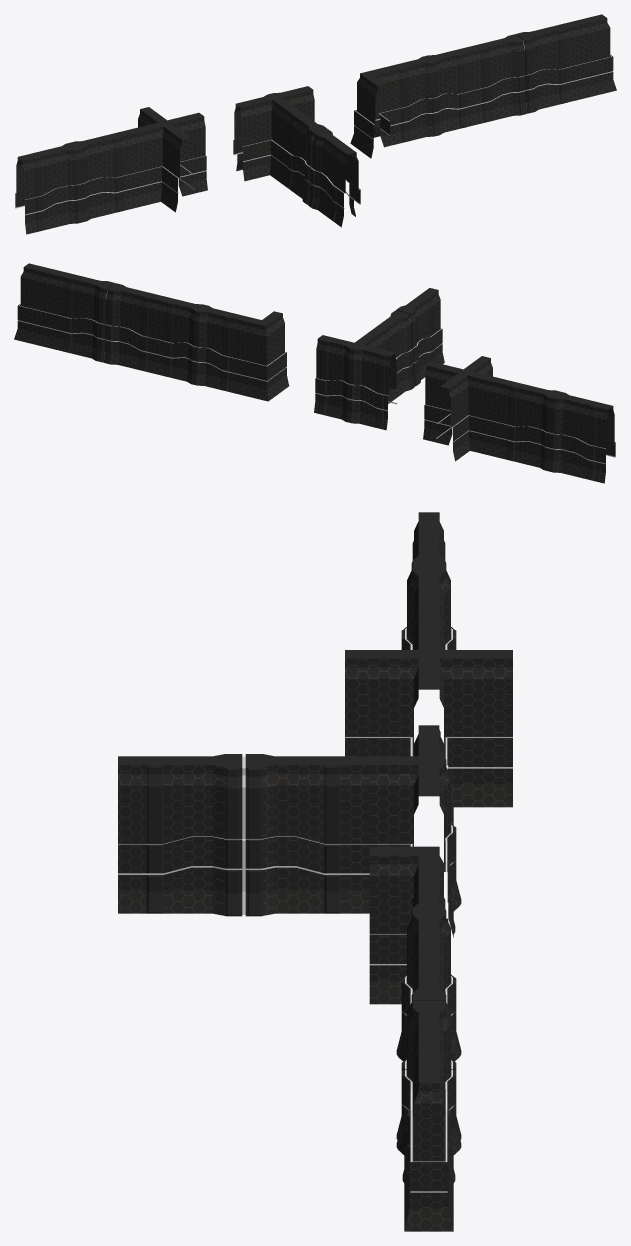
File: WallsPack01.fbx
3 renders of one model, top to bottom at view 1: azimuth 30°, elevation 25°; view 2: azimuth 150°, elevation 25°; view 3: azimuth 270°, elevation 25°, orthographic. The views are drawn at different scales.
Visible parts, largest first — view 1: SingleWallLongHalf, WallLong, XCross, WallLongDoor, WallShort, TCross, CornerWall, EndWall.001; view 2: SingleWallLongHalf, WallLong, TCross, XCross, WallShort, WallLongDoor, CornerWall, EndWall.001; view 3: WallLongDoor, XCross, TCross, CornerWall, WallLong, EndWall.001, SingleWallLongHalf, WallShort.
Boxes of the visible parts, left/top/right/bottom form: SingleWallLongHalf: left=15, top=130, right=135, bottom=234; WallLong: left=463, top=21, right=580, bottom=125; XCross: left=127, top=107, right=207, bottom=212; WallLongDoor: left=278, top=106, right=360, bottom=227; WallShort: left=390, top=48, right=471, bottom=143; TCross: left=233, top=86, right=314, bottom=181; CornerWall: left=350, top=66, right=398, bottom=158; EndWall.001: left=572, top=14, right=616, bottom=99; SingleWallLongHalf: left=495, top=379, right=615, bottom=483; WallLong: left=50, top=270, right=167, bottom=374; TCross: left=314, top=334, right=397, bottom=430; XCross: left=423, top=356, right=503, bottom=461; WallShort: left=159, top=297, right=240, bottom=392; WallLongDoor: left=367, top=288, right=444, bottom=403; CornerWall: left=232, top=311, right=288, bottom=401; EndWall.001: left=14, top=263, right=58, bottom=348; WallLongDoor: left=118, top=754, right=369, bottom=916; XCross: left=345, top=619, right=512, bottom=825; TCross: left=369, top=725, right=461, bottom=937; CornerWall: left=369, top=846, right=448, bottom=1004; WallLong: left=396, top=947, right=461, bottom=1194; EndWall.001: left=404, top=1053, right=453, bottom=1231; SingleWallLongHalf: left=401, top=512, right=456, bottom=649; WallShort: left=396, top=876, right=461, bottom=1061.
Size of the model in its own units: 3252 by 375 by 941.
